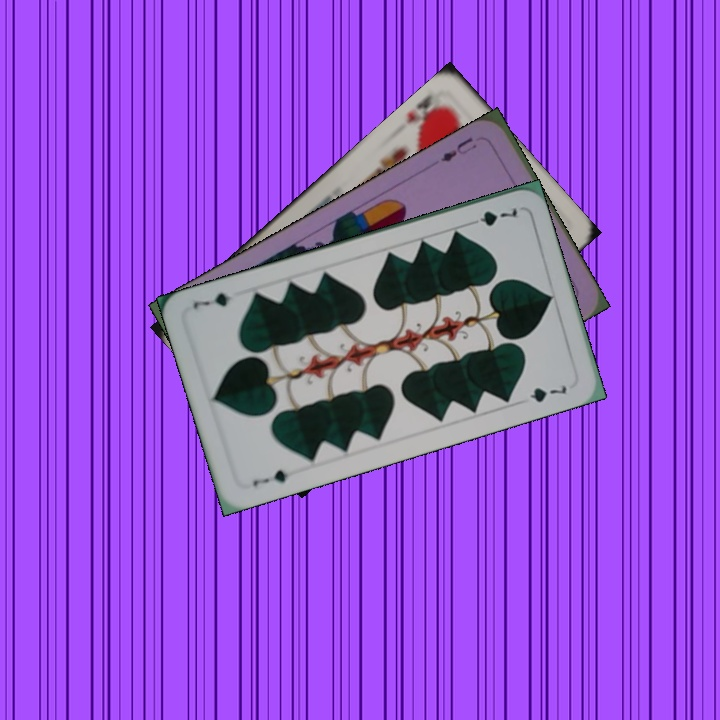EU: (437, 133, 480, 165)
G7: (463, 204, 520, 229), (248, 465, 291, 489)
HK: (402, 90, 450, 137)
